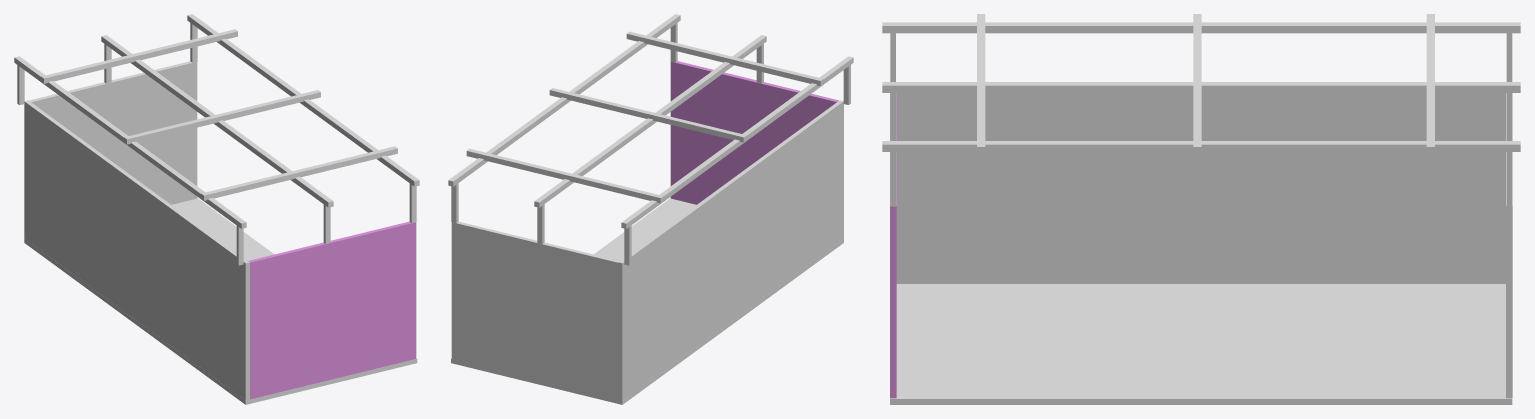
File: chaoeferro.fbx
3 renders of one model, left to right at view 1: azimuth 30°, elevation 25°; view 2: azimuth 150°, elevation 25°; view 3: azimuth 270°, elevation 25°, orthographic. The views are drawn at different scales.
Visible parts, largest first — view 1: cenario.004, cenario.003, ferro, cenario.006, cenario.005; view 2: cenario.004, cenario.006, ferro, cenario.003, cenario.005; view 3: cenario.004, cenario.005, ferro, cenario.003, cenario.006.
Part boxes in pixels (box(x1,y1,x2,y2)): cenario.004: box(24, 100, 249, 400); cenario.003: box(248, 221, 416, 399); ferro: box(14, 14, 419, 265); cenario.006: box(29, 61, 197, 204); cenario.005: box(24, 198, 417, 404); cenario.004: box(618, 100, 843, 400); cenario.006: box(451, 221, 619, 399); ferro: box(448, 14, 853, 265); cenario.003: box(670, 61, 838, 204); cenario.005: box(451, 198, 843, 404); cenario.004: box(896, 93, 1505, 283); cenario.005: box(890, 284, 1512, 404); ferro: box(882, 14, 1520, 206); cenario.003: box(890, 93, 896, 398); cenario.006: box(1506, 93, 1512, 398).
Size of the model in its own units: 3210 by 2990 by 6506.
